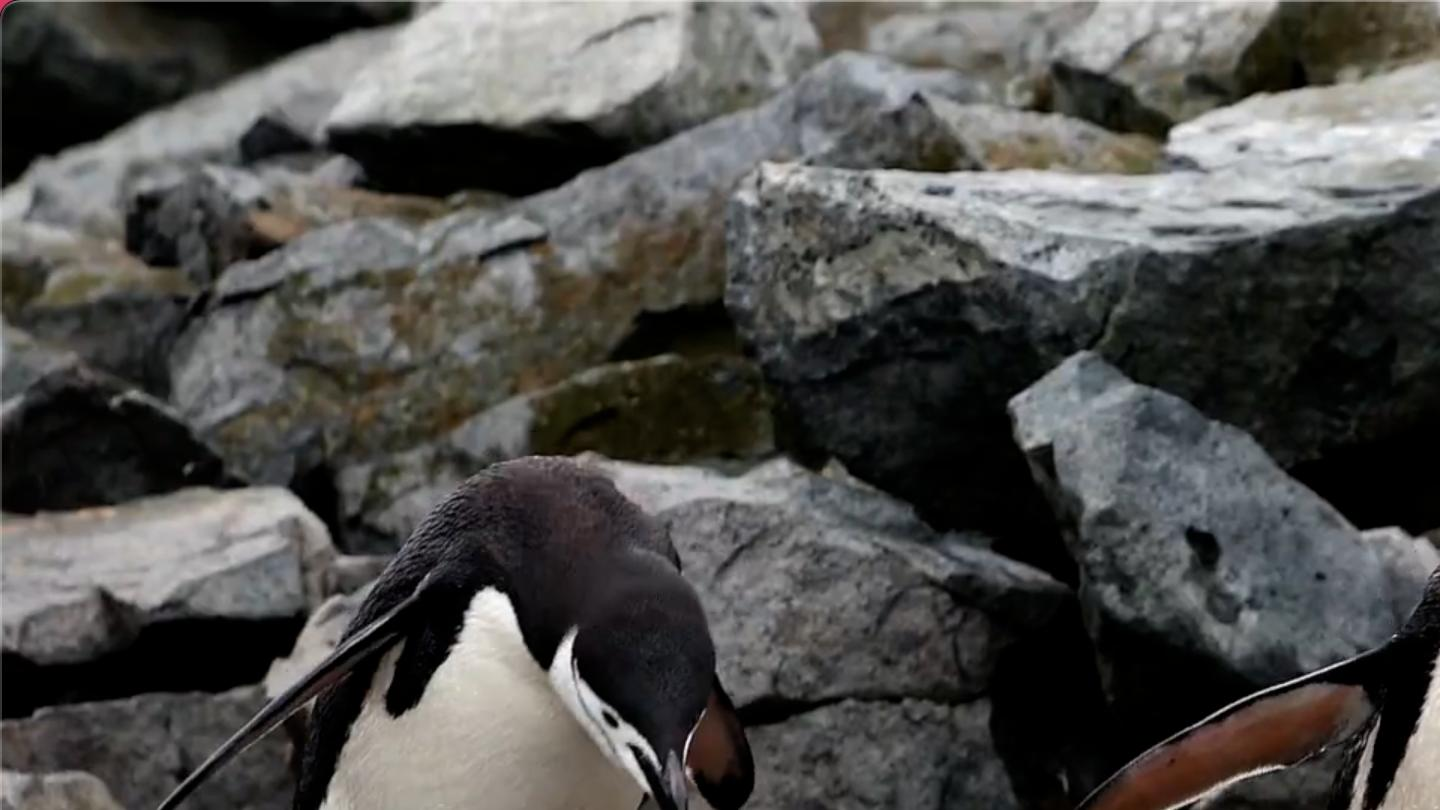Chinstrap Penguin: (1036, 459, 1440, 810)
